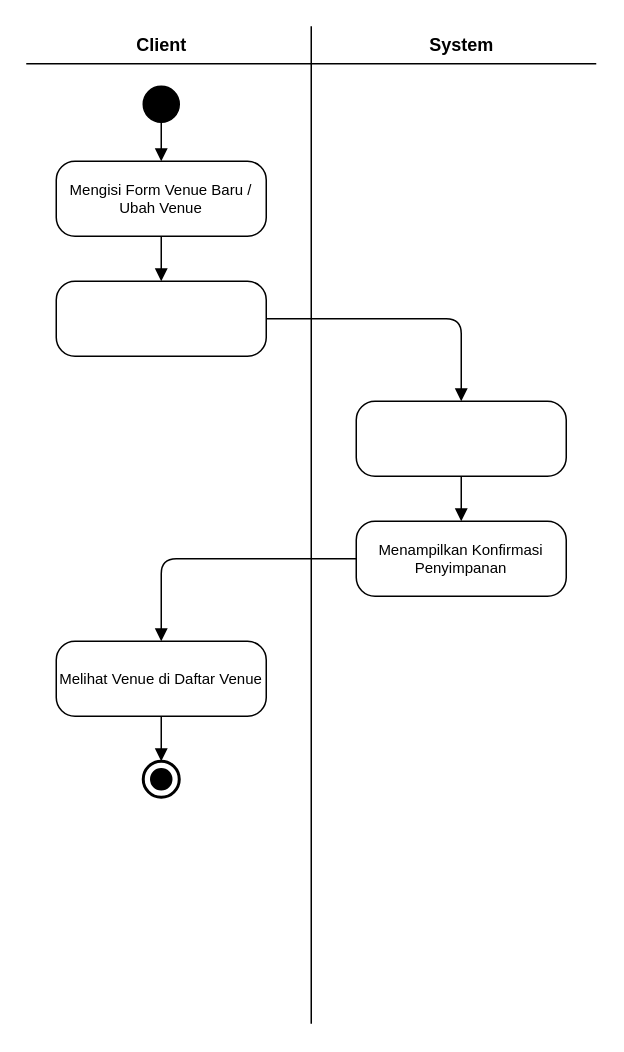
This 624x1052 diagram has some shape labels left out. Here are the shapes that lost their labels. From the top down, the box of each, then its label:
(55, 280, 266, 356): Menekan Tombol Simpan/Perbarui
(355, 400, 566, 476): Menyimpan Informasi & Foto Venue DRAFT
